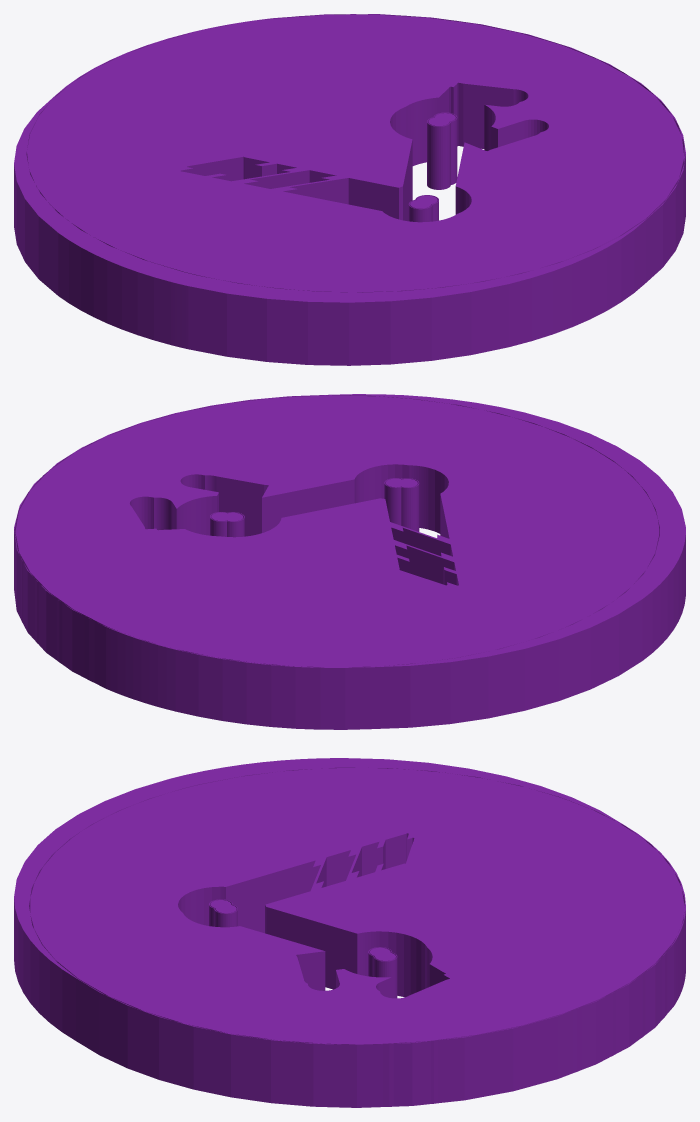
File: menorzinho.glb
3 views of the same model, one above another, from view 1: azimuth 30°, elevation 25°; view 2: azimuth 150°, elevation 25°; view 3: azimuth 270°, elevation 25° (orthographic). The views are drawn at different scales.
Parts seen in each view (by area): view 1: Mesh_Mesh_head_geo.001_lambert2SG.001; view 2: Mesh_Mesh_head_geo.001_lambert2SG.001; view 3: Mesh_Mesh_head_geo.001_lambert2SG.001.
Part boxes in pixels (left/top/right/bottom): Mesh_Mesh_head_geo.001_lambert2SG.001: left=14, top=14, right=685, bottom=365; Mesh_Mesh_head_geo.001_lambert2SG.001: left=14, top=394, right=685, bottom=729; Mesh_Mesh_head_geo.001_lambert2SG.001: left=14, top=758, right=685, bottom=1107.
Size of the model in its own units: 28.85 by 2.95 by 28.54.
